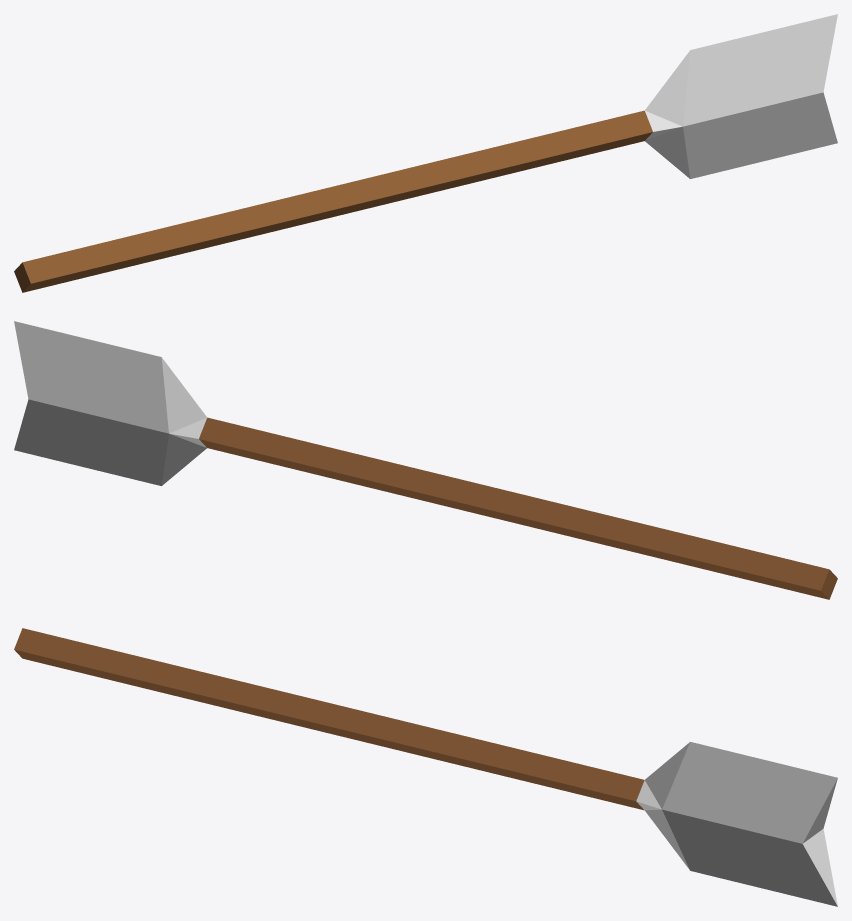
The model's file is Asian_Prop_Arrow_Embedded_01.FBX.
3 renders of one model, top to bottom at view 1: azimuth 30°, elevation 25°; view 2: azimuth 150°, elevation 25°; view 3: azimuth 330°, elevation 25°, orthographic.
Visible parts, largest first — view 1: Asian_Prop_Arrow_Embedded_01; view 2: Asian_Prop_Arrow_Embedded_01; view 3: Asian_Prop_Arrow_Embedded_01.
Boxes of the visible parts, box(x1,y1,x2,y2) form: Asian_Prop_Arrow_Embedded_01: box(14, 14, 837, 292); Asian_Prop_Arrow_Embedded_01: box(14, 321, 837, 599); Asian_Prop_Arrow_Embedded_01: box(14, 628, 837, 906).
Bounding box in the file's own units: 733 × 111 × 32.57.
